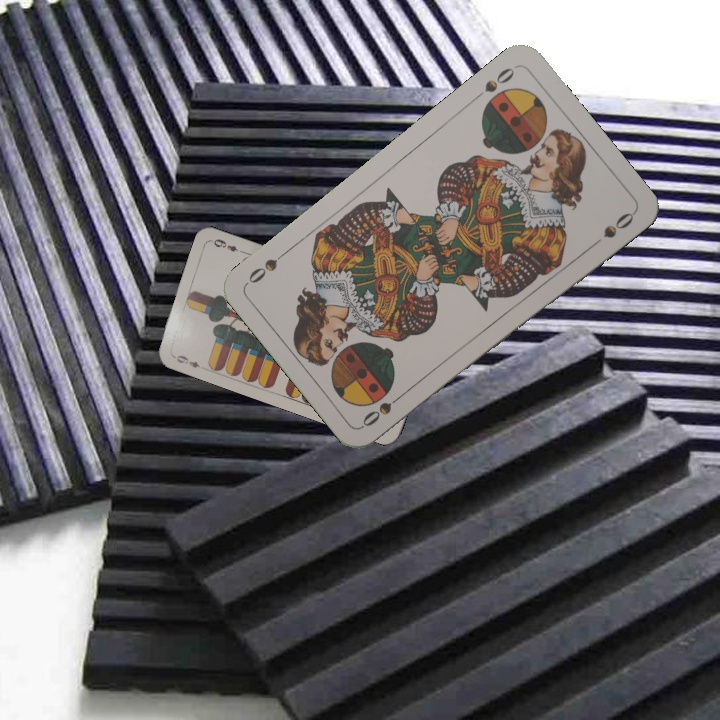E9: (168, 351, 207, 372)
SO: (358, 387, 409, 430), (469, 63, 517, 104)
